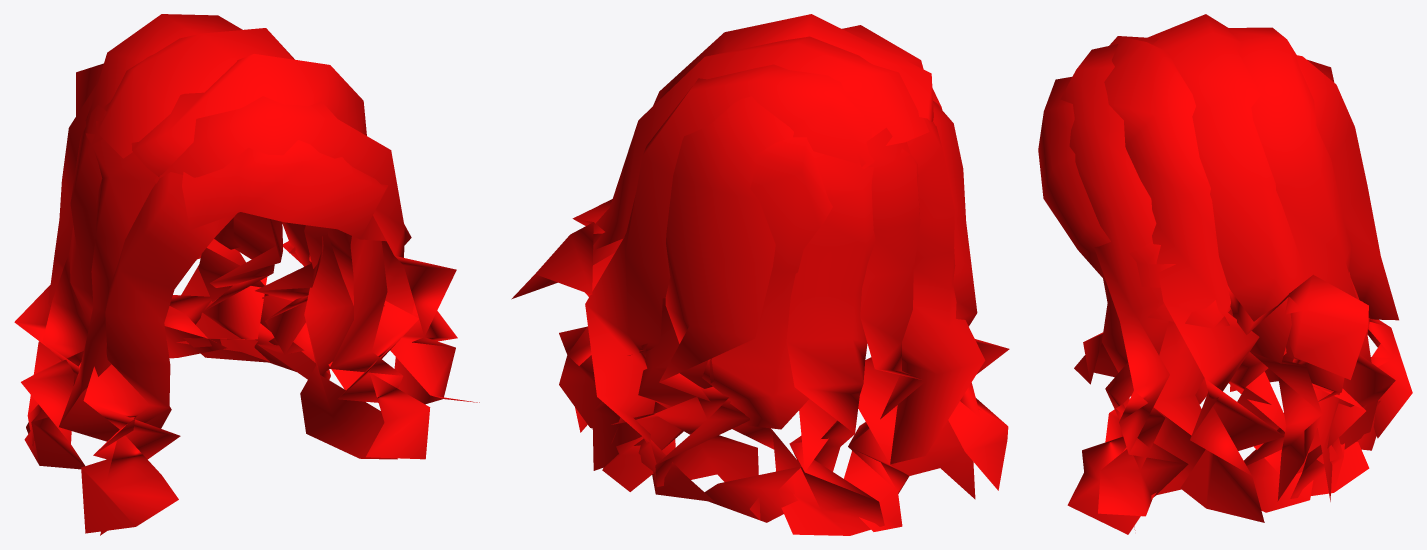
The model's file is cortu_strawberry_cloud_hair_M.glb.
3 views of the same model, side by side, from view 1: azimuth 30°, elevation 25°; view 2: azimuth 150°, elevation 25°; view 3: azimuth 270°, elevation 25° (orthographic). The views are drawn at different scales.
Size of the model in its own units: 0.2959 by 0.3231 by 0.253.
Materials: 1 (1 with a texture image).
